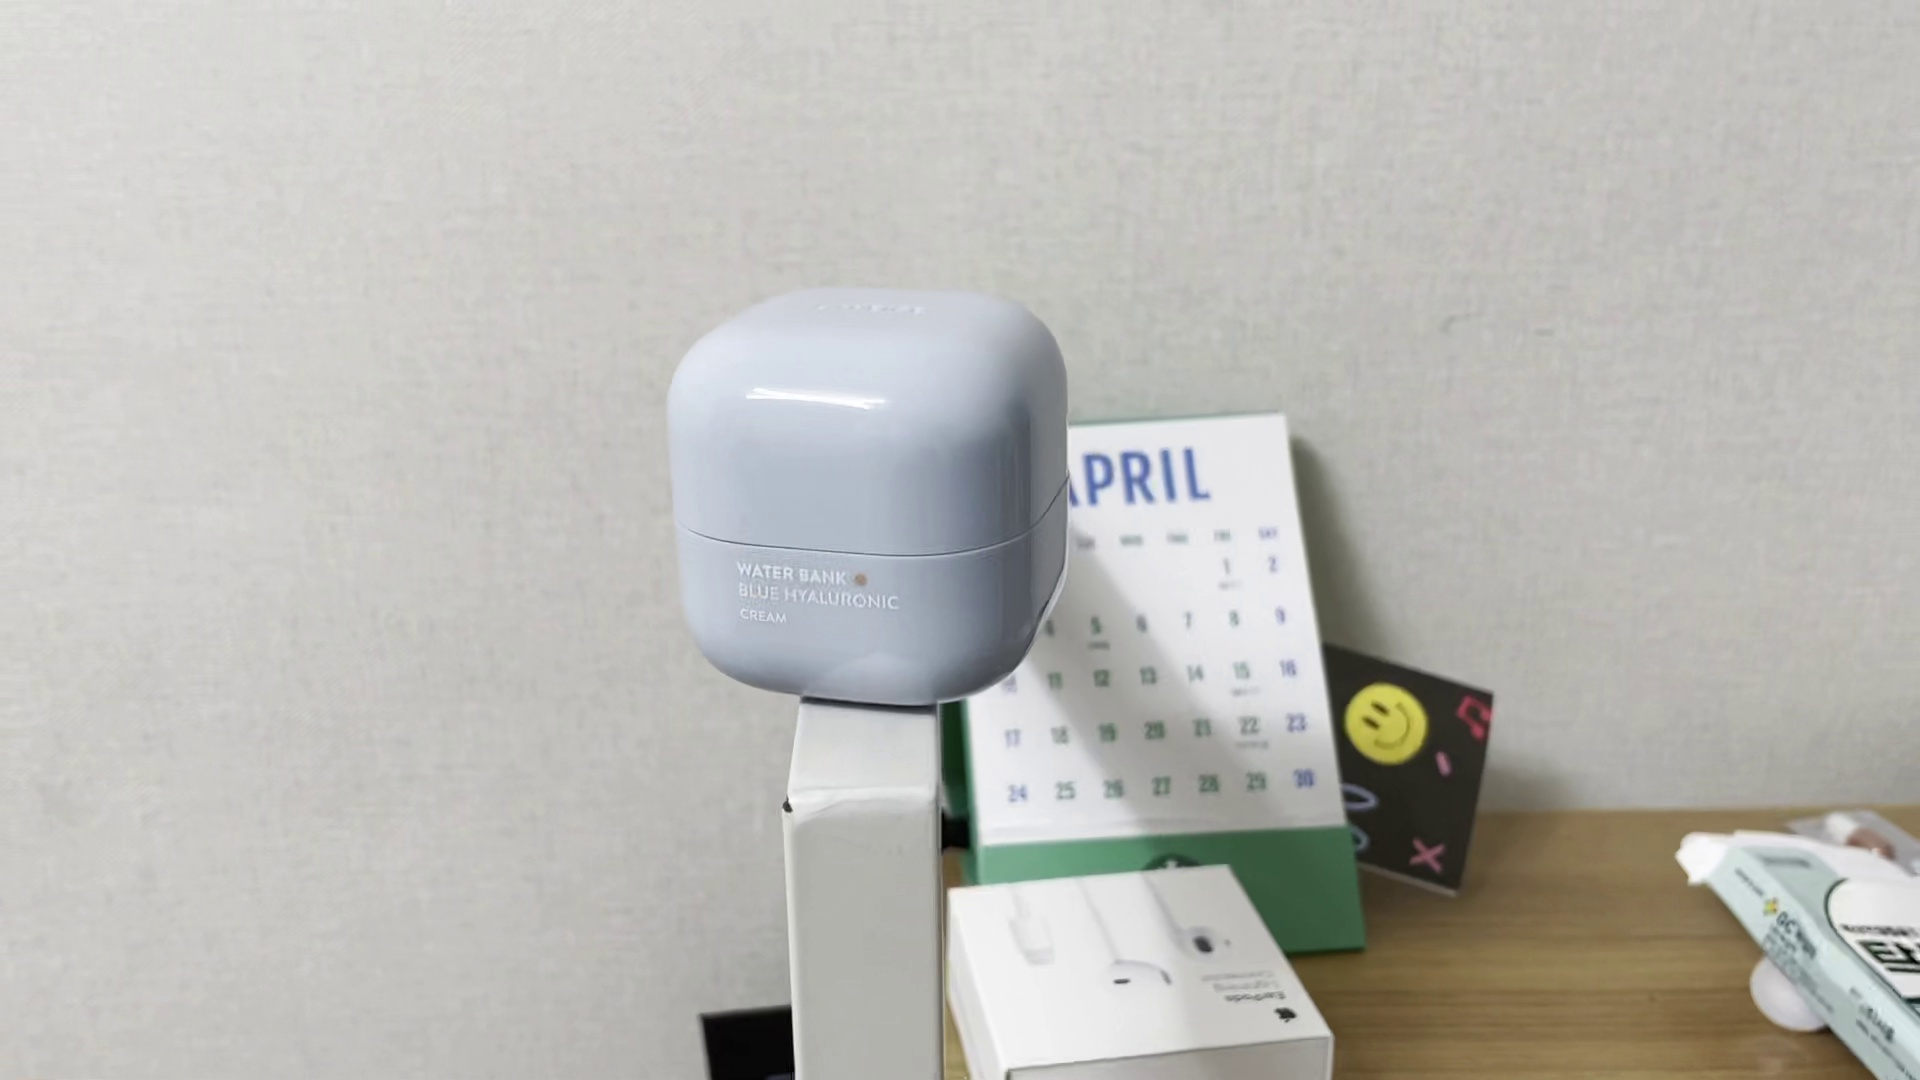cream: (669, 284, 1071, 709)
